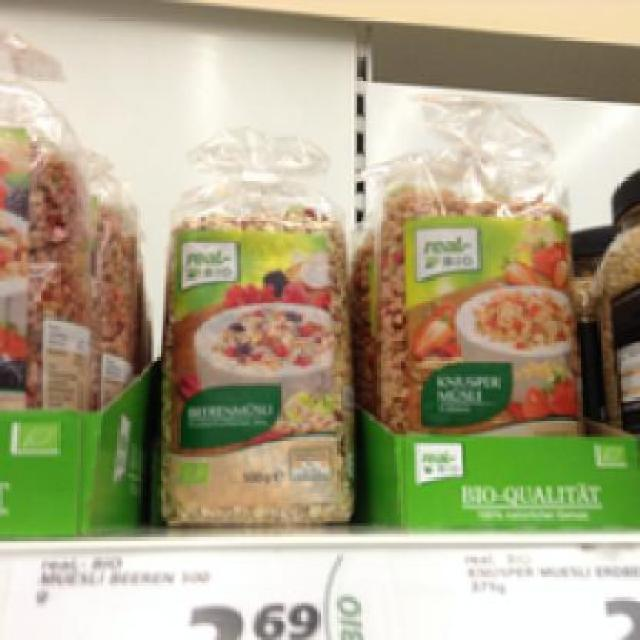Cereal: (162, 180, 352, 526), (374, 150, 583, 444), (0, 143, 103, 406)
